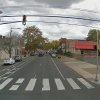Crosswalk: (10, 67, 94, 100)
